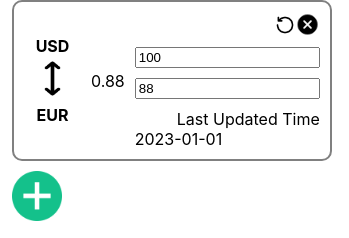
it: CurrencyConverter component › updates source value and recalculates target value
This screenshot has width=349, height=238.
Replace the text in the field with test id "source-text-box" with "200": point(227, 58) x1=135 y1=47 x2=320 y2=68
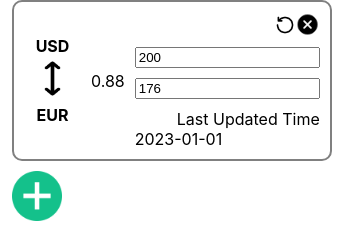
expect the field with test id "target-text-box" holds "176": met, box x1=135 y1=78 x2=320 y2=99
